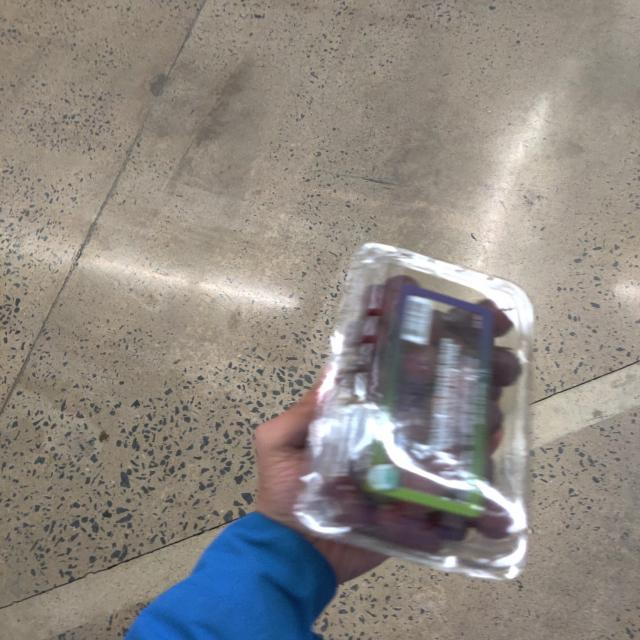Grapes: (304, 245, 535, 582)
